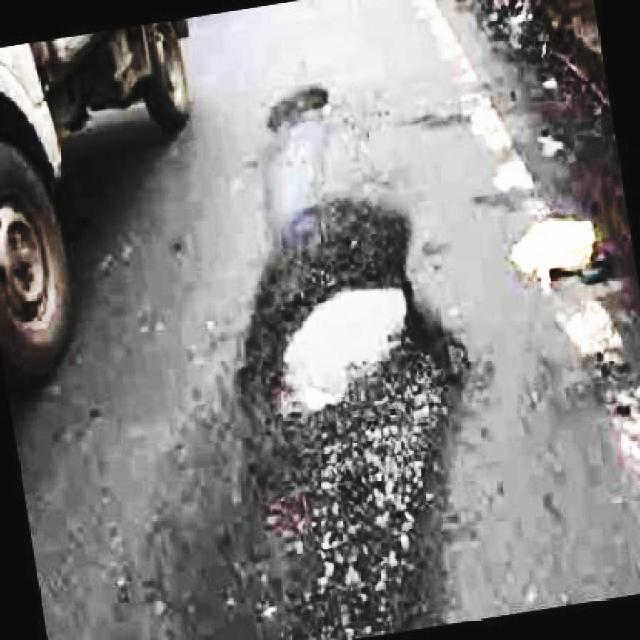pothole: (229, 194, 477, 640), (264, 81, 334, 137)
